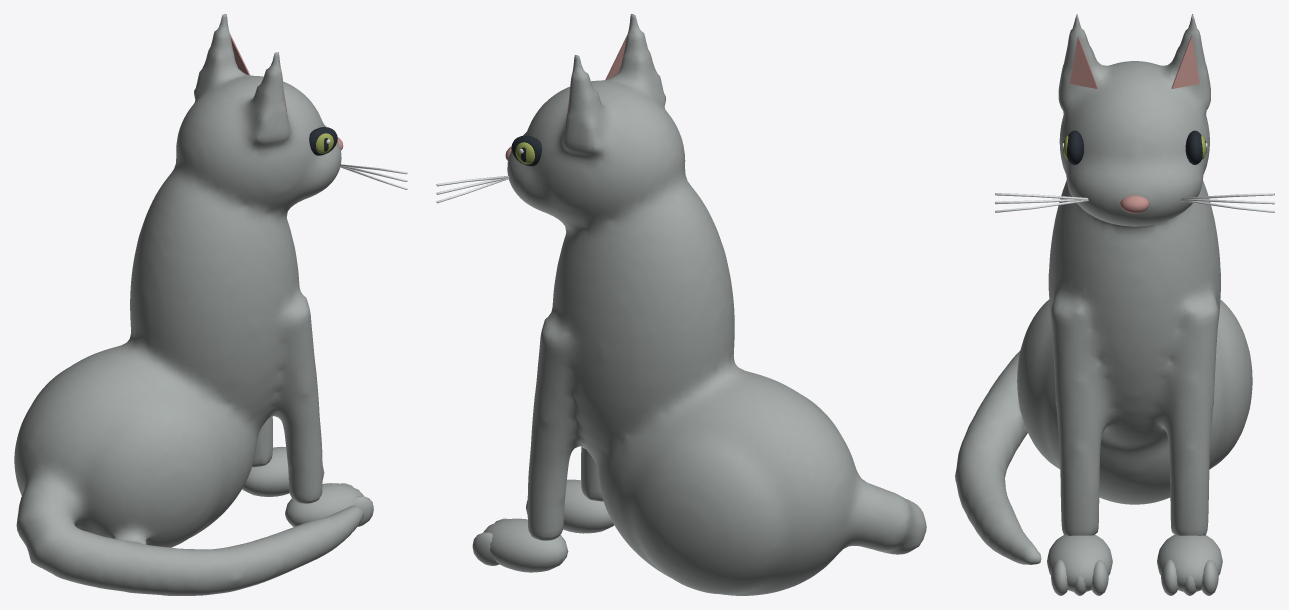
The model's file is domestic-cat-sitting.glb.
The picture shows the model from 3 angles, left to right: view 1: azimuth 30°, elevation 25°; view 2: azimuth 150°, elevation 25°; view 3: azimuth 270°, elevation 25°; orthographic projection. The views are drawn at different scales.
Parts seen in each view (by area): view 1: Continuous anatomical skin, Rounded paw, Rounded paw.001; view 2: Continuous anatomical skin, Rounded paw.001, Rounded paw; view 3: Continuous anatomical skin, Rounded paw.001, Rounded paw, Pink inner pinna fitted to skin, Pink inner pinna fitted to skin.001, Dark eye socket.001, Toe.002, Toe.005, Dark eye socket, Toe, Toe.003, Pink cat nose.
Part boxes in pixels (<box>): Continuous anatomical skin: <box>14,14,364,595</box>; Rounded paw: <box>285,483,363,526</box>; Rounded paw.001: <box>242,446,289,496</box>; Continuous anatomical skin: <box>507,14,926,595</box>; Rounded paw.001: <box>483,518,568,572</box>; Rounded paw: <box>563,479,613,533</box>; Continuous anatomical skin: <box>955,14,1252,564</box>; Rounded paw.001: <box>1157,534,1222,591</box>; Rounded paw: <box>1047,534,1112,591</box>; Pink inner pinna fitted to skin: <box>1070,36,1097,88</box>; Pink inner pinna fitted to skin.001: <box>1171,36,1199,88</box>; Dark eye socket.001: <box>1185,130,1202,164</box>; Toe.002: <box>1091,560,1108,595</box>; Toe.005: <box>1201,560,1218,595</box>; Dark eye socket: <box>1067,130,1083,164</box>; Toe: <box>1051,560,1068,595</box>; Toe.003: <box>1161,560,1178,595</box>; Pink cat nose: <box>1120,195,1149,213</box>.
Size of the model in its own units: 0.3153 by 0.42 by 0.2243.
Materials: 5 (5 with a texture image).
